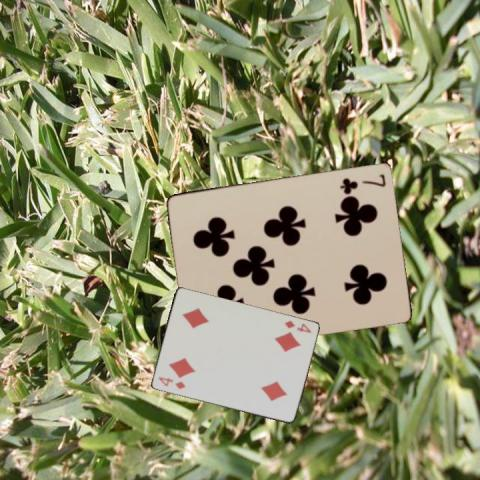4d: (155, 374, 187, 391), (281, 317, 313, 334)
7c: (337, 170, 387, 192)
